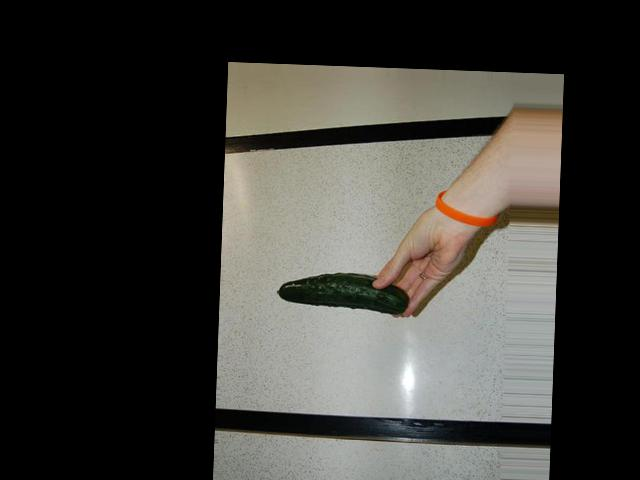cucumber: (275, 272, 409, 315)
